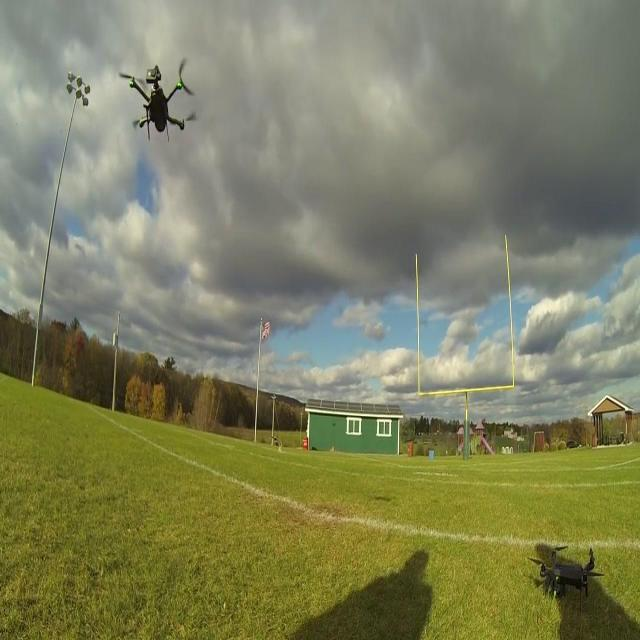UAV: (118, 57, 198, 142), (528, 546, 604, 614)
